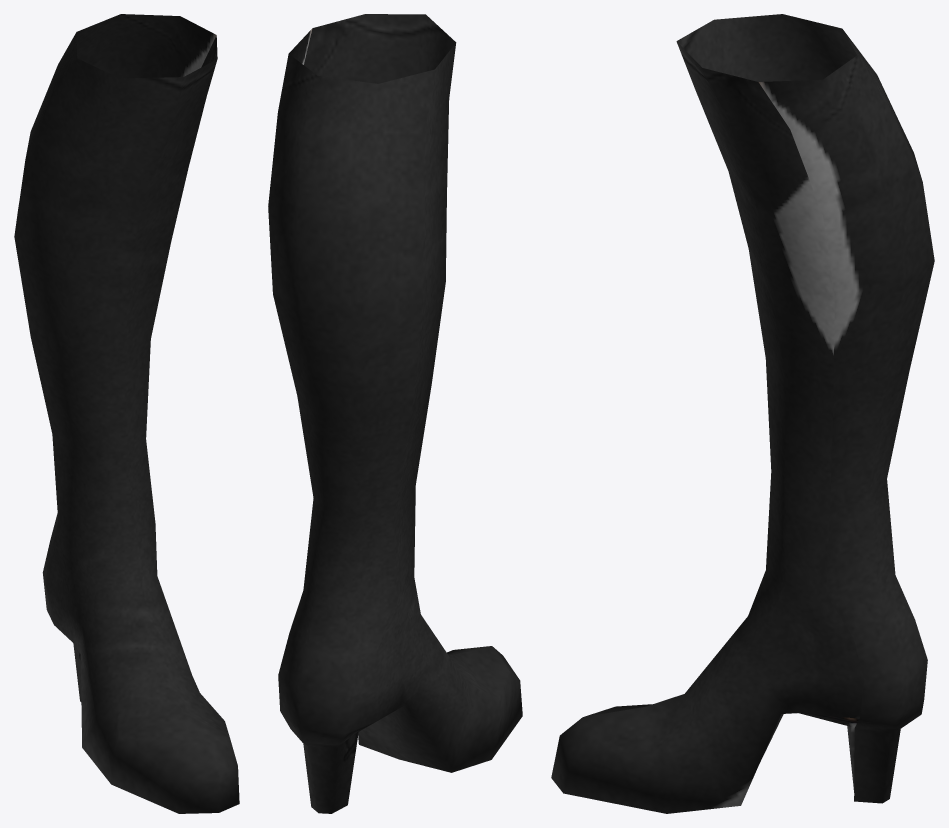
Rendered from Lfoot2.obj.
3 views of the same model, side by side, from view 1: azimuth 30°, elevation 25°; view 2: azimuth 150°, elevation 25°; view 3: azimuth 270°, elevation 25° (orthographic). The views are drawn at different scales.
Visible parts, largest first — view 1: polySurface48 polySurface44 polySurface5 Nier2b:Cube; view 2: polySurface48 polySurface44 polySurface5 Nier2b:Cube; view 3: polySurface48 polySurface44 polySurface5 Nier2b:Cube.
Part boxes in pixels (left/top/right/bottom): polySurface48 polySurface44 polySurface5 Nier2b:Cube: left=14, top=14, right=239, bottom=813; polySurface48 polySurface44 polySurface5 Nier2b:Cube: left=268, top=14, right=522, bottom=813; polySurface48 polySurface44 polySurface5 Nier2b:Cube: left=551, top=14, right=934, bottom=813.
Size of the model in its own units: 2.57 by 11.12 by 5.11.
Materials: 1 (1 with a texture image).
